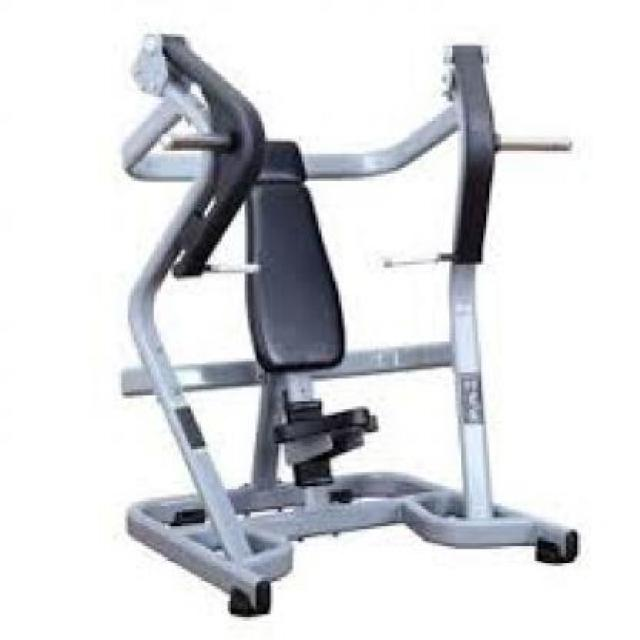Chest Press machine: (97, 21, 594, 622)
